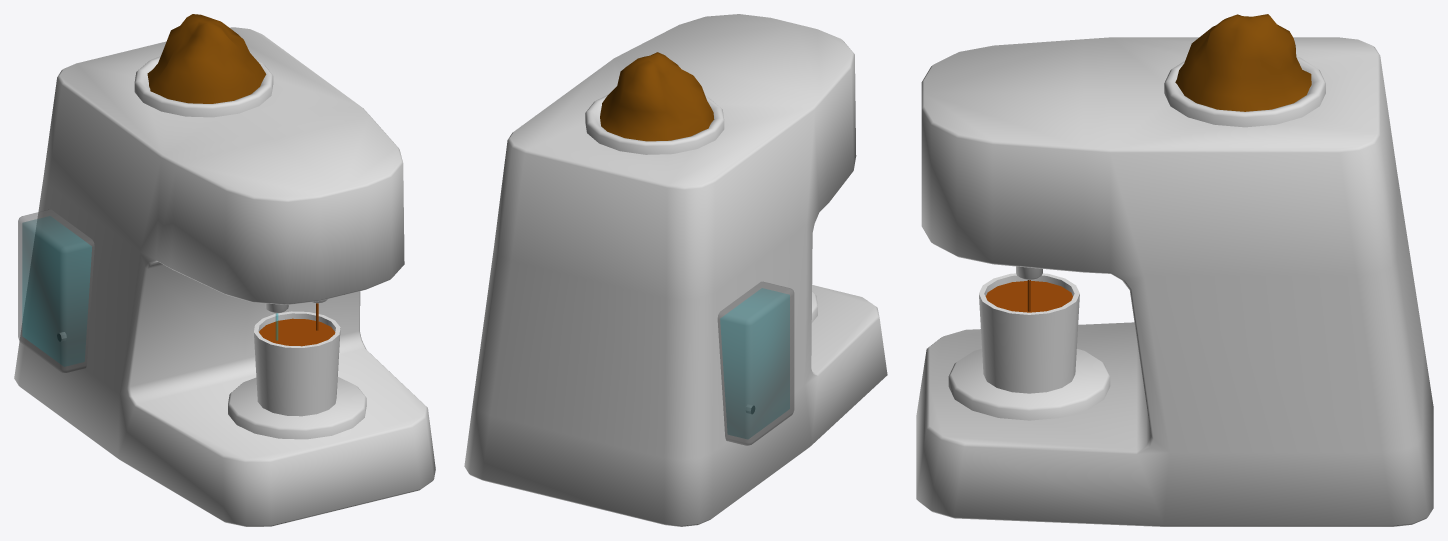
Rendered from CoffeeMachine.glb.
3 renders of one model, left to right at view 1: azimuth 30°, elevation 25°; view 2: azimuth 150°, elevation 25°; view 3: azimuth 270°, elevation 25°, orthographic. The views are drawn at different scales.
Parts seen in each view (by area): view 1: Machine, WaterHolder, Water, CoffeeBeans, Mug, CoffeeJuice; view 2: Machine, WaterHolder, Water, CoffeeBeans; view 3: Machine, CoffeeBeans, Mug, CoffeeJuice.
Boxes of the visible parts, x1,y1,x2,y2 form: Machine: [14, 27, 435, 526]; WaterHolder: [18, 209, 94, 372]; Water: [23, 216, 91, 366]; CoffeeBeans: [147, 14, 266, 103]; Mug: [254, 311, 340, 416]; CoffeeJuice: [259, 318, 335, 346]; Machine: [464, 14, 887, 526]; WaterHolder: [717, 281, 794, 445]; Water: [721, 288, 789, 438]; CoffeeBeans: [600, 52, 714, 141]; Machine: [916, 37, 1433, 526]; CoffeeBeans: [1175, 14, 1311, 111]; Mug: [979, 273, 1079, 393]; CoffeeJuice: [985, 281, 1072, 312].
Bounding box in the file's own units: 1.3 × 1.82 × 1.92.
